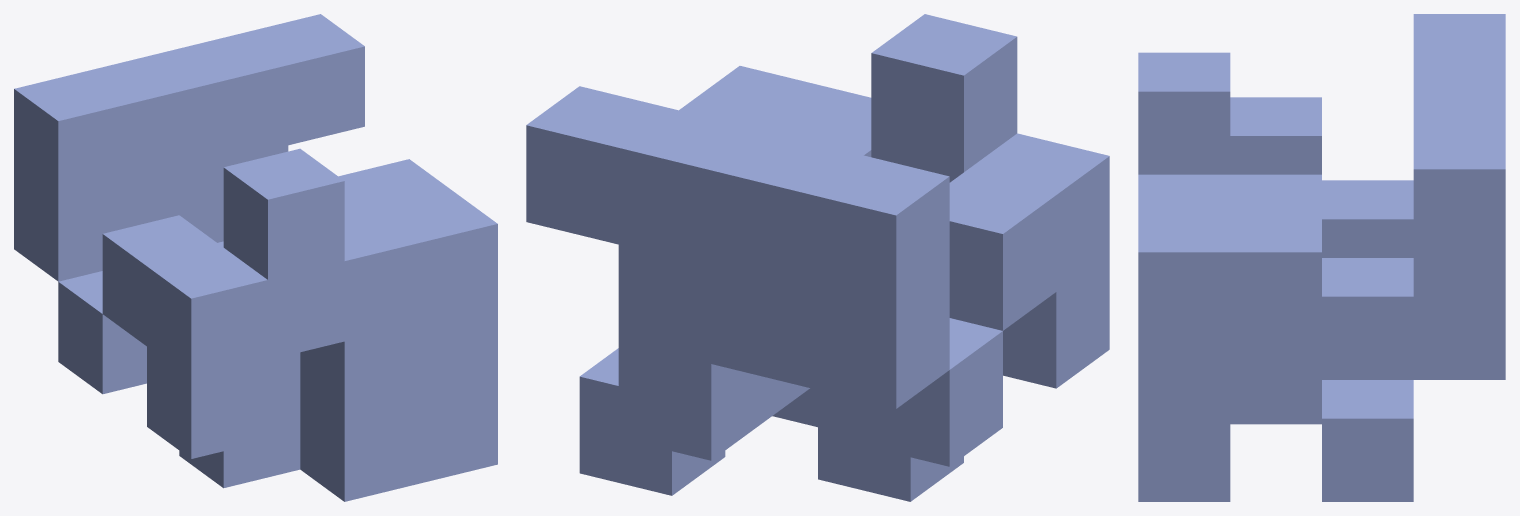
3 renders of one model, left to right at view 1: azimuth 30°, elevation 25°; view 2: azimuth 150°, elevation 25°; view 3: azimuth 270°, elevation 25°, orthographic. The views are drawn at different scales.
Parts seen in each view (by area): view 1: _changes.018; view 2: _changes.018; view 3: _changes.018.
Boxes of the visible parts, left/top/right/bottom form: _changes.018: left=14, top=14, right=497, bottom=501; _changes.018: left=526, top=14, right=1109, bottom=501; _changes.018: left=1138, top=14, right=1505, bottom=501.
Bounding box in the file's own units: 0.1041 × 0.1041 × 0.1041.
